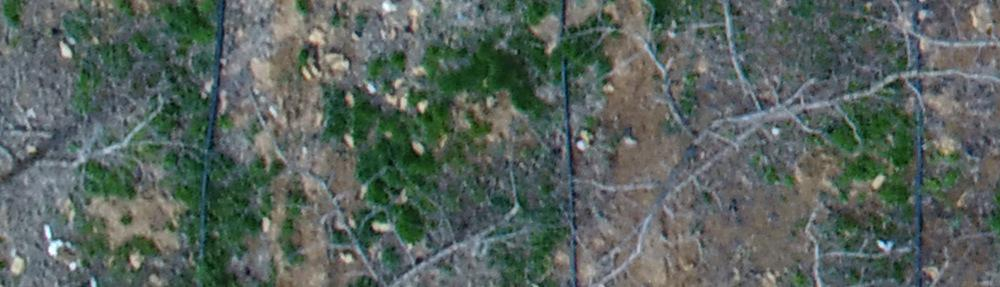apple: (558, 10, 990, 268)
